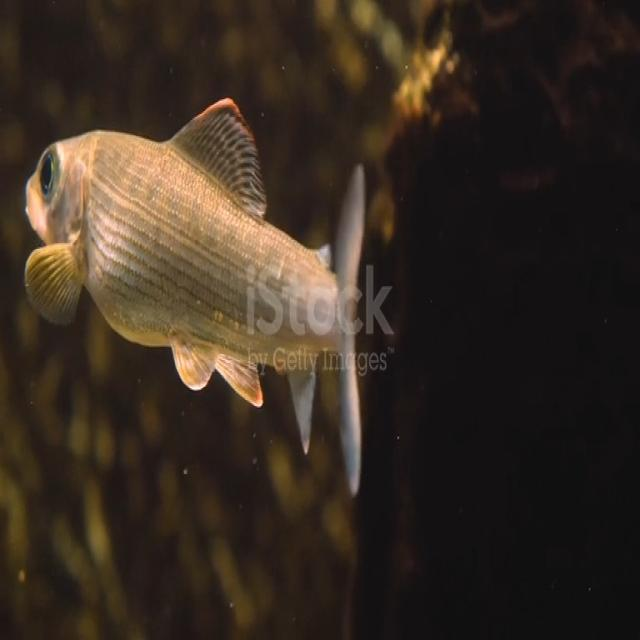fish: (22, 93, 370, 504)
